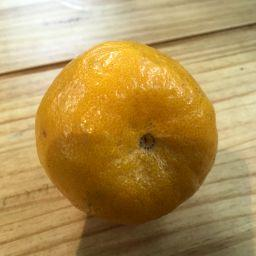Ripe: (35, 44, 217, 223)
